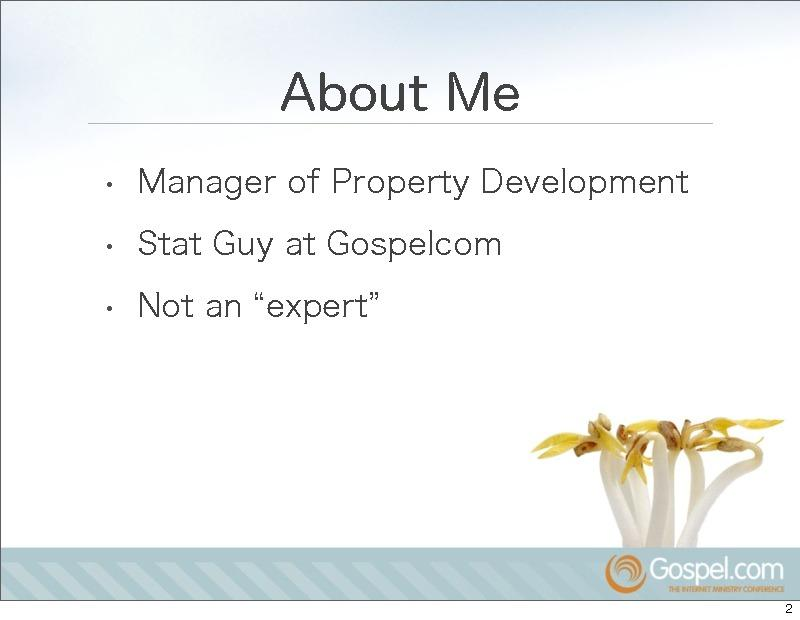paragraph: (128, 151, 718, 355)
title: (274, 52, 526, 137)
